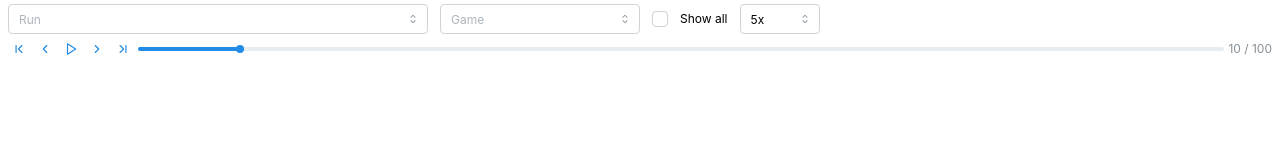
Scenario: TransportBar (additional coverage) › navigation buttons with step range › jump to start after advancing
Jump to end first
Click the button named "Last step" at {"x": 123, "y": 49}, box [112,38,134,60]
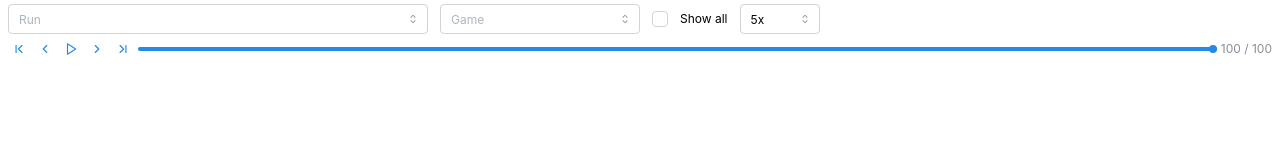
Expected: the text "100 / 100" is shown, [1221,41,1272,57]
Now jump to start
Click the button named "First step" at {"x": 19, "y": 49}, box [8,38,30,60]
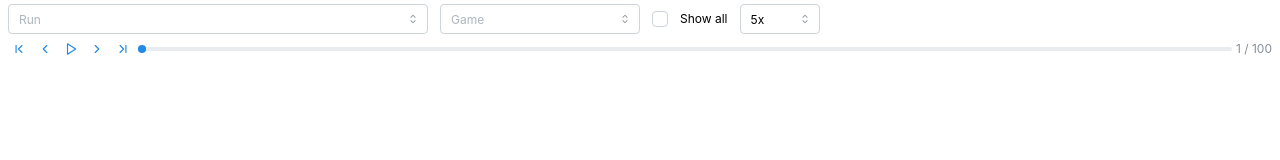
Expected: the text "1 / 100" is shown, [1236,41,1272,57]
